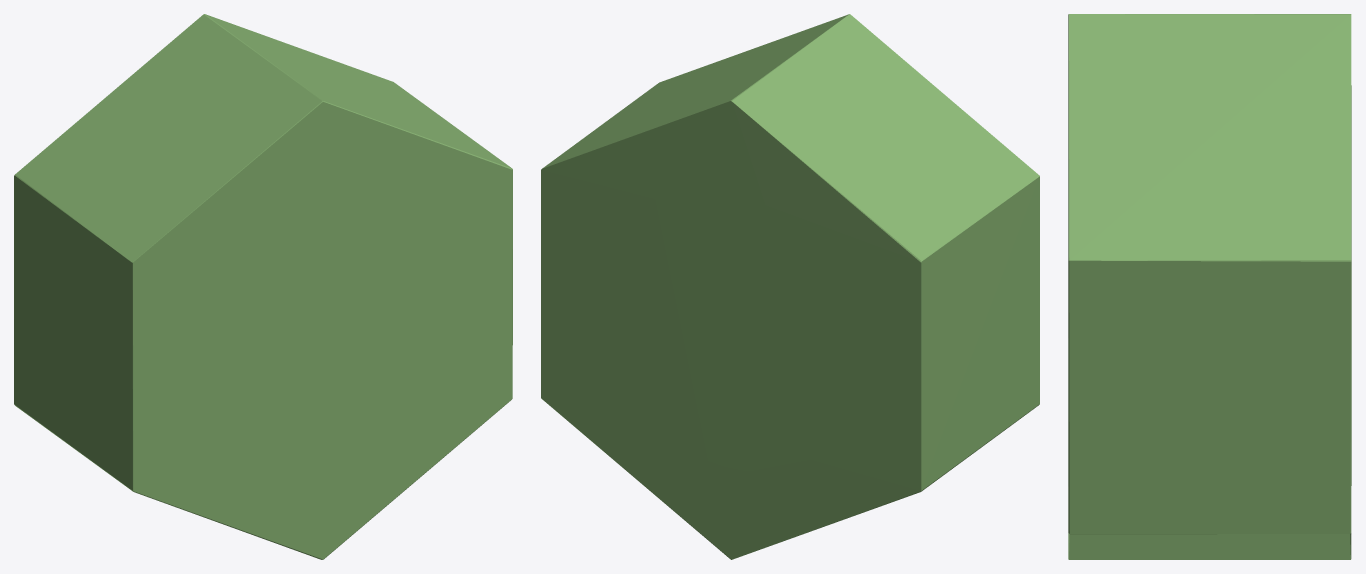
File: factory_nut_m16_loose.glb
3 renders of one model, left to right at view 1: azimuth 30°, elevation 25°; view 2: azimuth 150°, elevation 25°; view 3: azimuth 270°, elevation 25°, orthographic. The views are drawn at different scales.
Visible parts, largest first — view 1: geometry_0; view 2: geometry_0; view 3: geometry_0.
Part boxes in pixels (<box>): geometry_0: <box>14,14,512,559</box>; geometry_0: <box>541,14,1039,559</box>; geometry_0: <box>1068,14,1351,559</box>.
Bounding box in the file's own units: 0.416 × 0.4796 × 0.2255.
